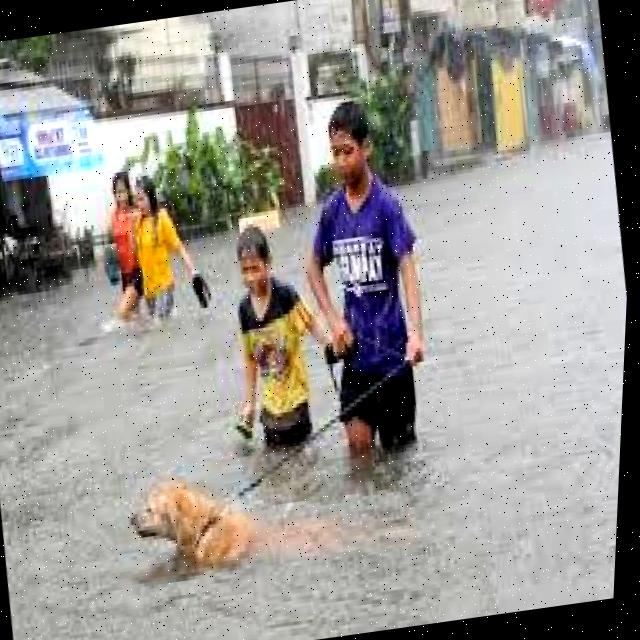civilian: (281, 79, 461, 463), (198, 215, 343, 466), (122, 162, 205, 320), (90, 165, 157, 313)
dog: (118, 458, 317, 590)
